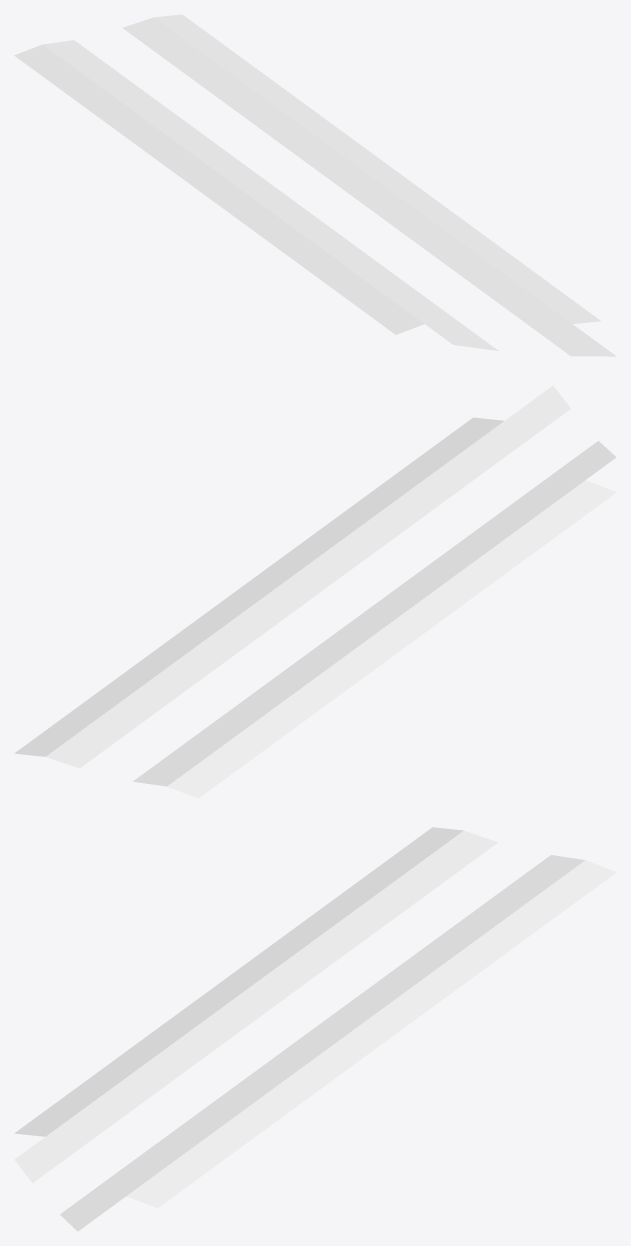
File: roof.glb
3 renders of one model, top to bottom at view 1: azimuth 30°, elevation 25°; view 2: azimuth 150°, elevation 25°; view 3: azimuth 330°, elevation 25°, orthographic. The views are drawn at different scales.
Parts seen in each view (by area): view 1: dach.001; view 2: dach.001; view 3: dach.001.
Part boxes in pixels (box(x1,y1,x2,y2)): dach.001: box(14, 14, 616, 356); dach.001: box(14, 385, 616, 798); dach.001: box(14, 827, 616, 1231).
Bounding box in the file's own units: 33.13 × 0.7547 × 158.
1 material, 1 textured.
